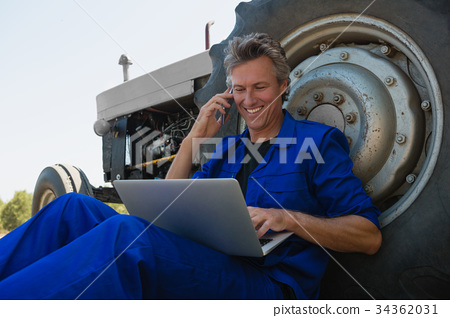phone: (214, 80, 235, 123)
talk: (197, 71, 280, 141)
